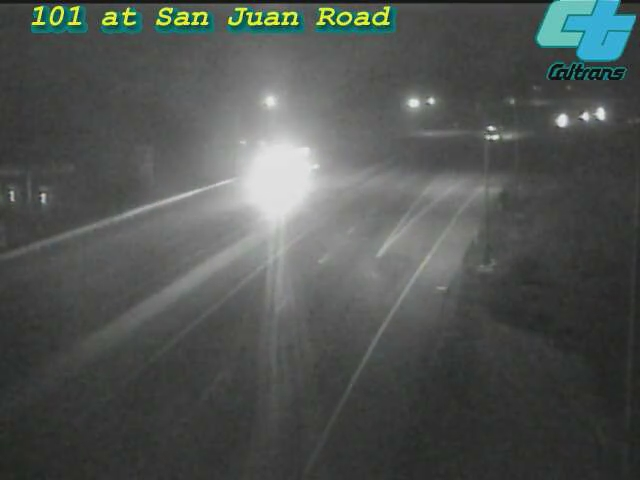vehicle: (231, 133, 311, 213), (539, 94, 589, 144), (467, 109, 517, 159), (574, 89, 624, 139), (559, 92, 609, 142)
